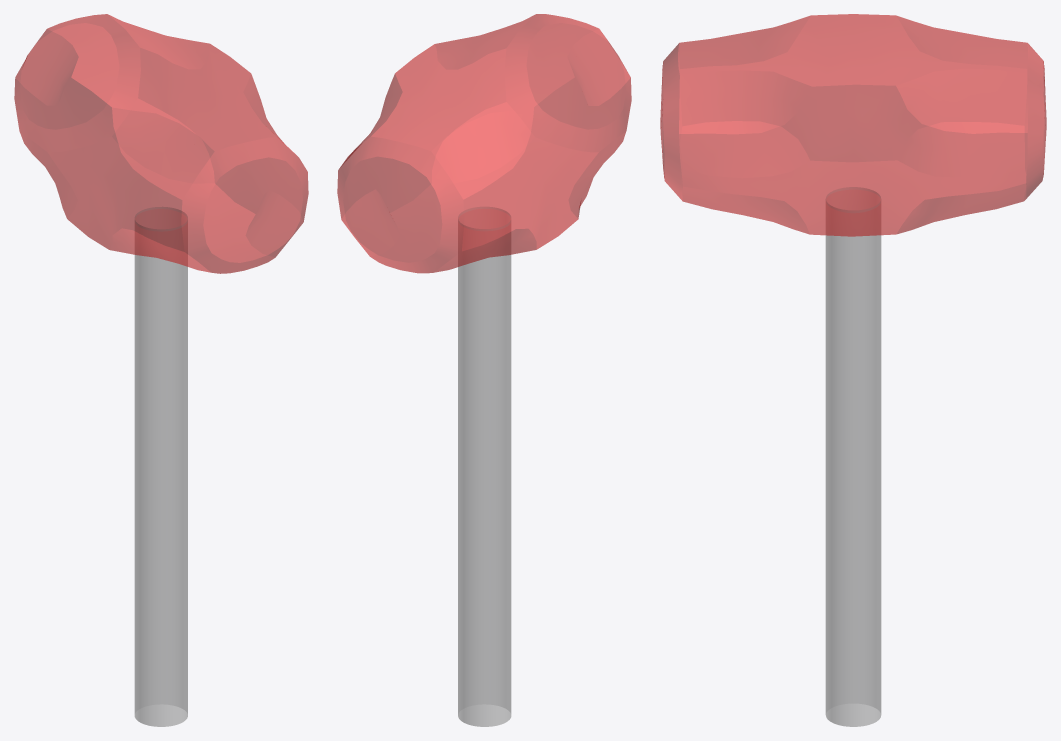
The model's file is Sledgehammer.fbx.
3 renders of one model, left to right at view 1: azimuth 30°, elevation 25°; view 2: azimuth 150°, elevation 25°; view 3: azimuth 270°, elevation 25°, orthographic. The views are drawn at different scales.
Visible parts, largest first — view 1: Sledge_LP, Handle_LP; view 2: Sledge_LP, Handle_LP; view 3: Sledge_LP, Handle_LP.
Part boxes in pixels (x1,y1,x2,y2): Sledge_LP: (14,14,308,273); Handle_LP: (134,207,187,726); Sledge_LP: (337,14,631,273); Handle_LP: (458,207,511,726); Sledge_LP: (660,14,1046,236); Handle_LP: (825,187,881,726).
Bounding box in the file's own units: 122 × 497 × 261.
